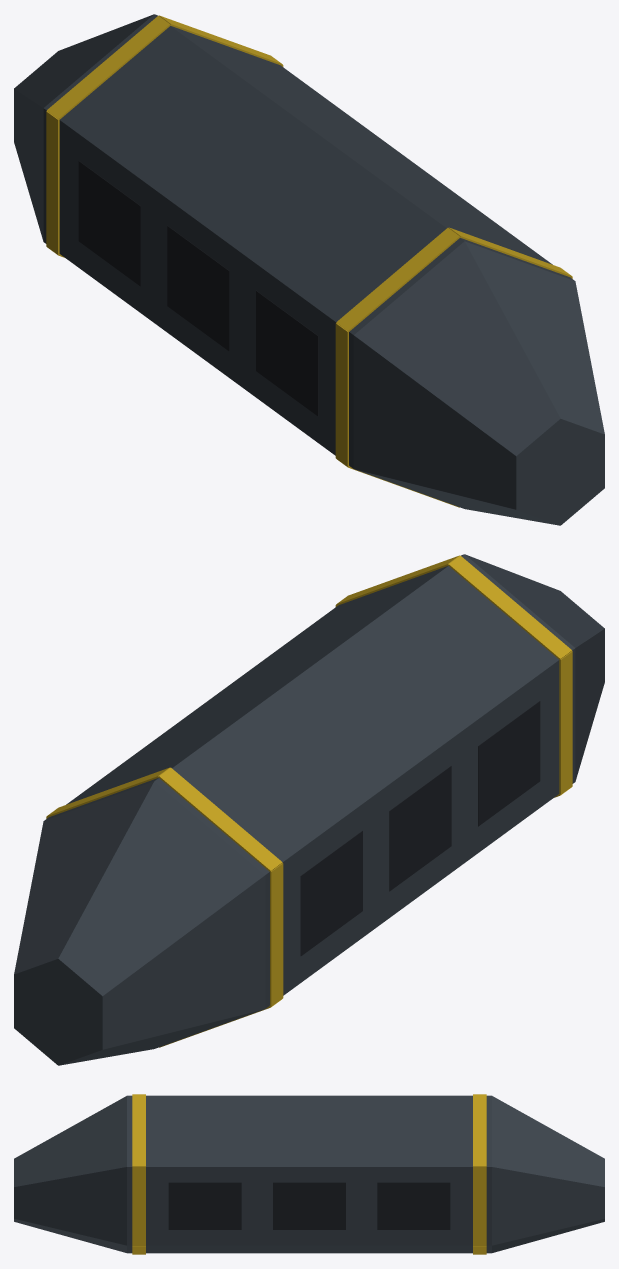
File: mjfe_emitter.obj
3 renders of one model, top to bottom at view 1: azimuth 30°, elevation 25°; view 2: azimuth 150°, elevation 25°; view 3: azimuth 270°, elevation 25°, orthographic. The views are drawn at different scales.
Visible parts, largest first — view 1: mjfe_emitter; view 2: mjfe_emitter; view 3: mjfe_emitter.
Part boxes in pixels (x1,y1,x2,y2): mjfe_emitter: [14, 14, 604, 525]; mjfe_emitter: [14, 554, 604, 1065]; mjfe_emitter: [14, 1094, 604, 1254].
Size of the model in its own units: 0.88 by 1.01 by 3.4.
